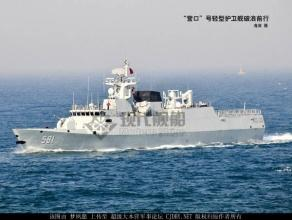warship: (11, 63, 271, 157)
